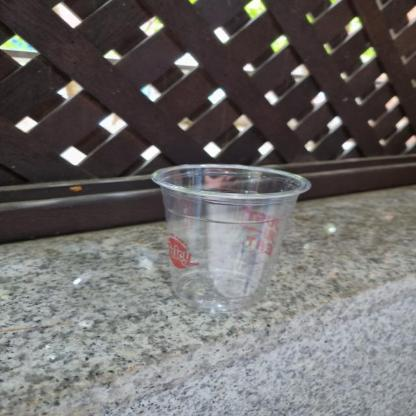Plastic Cup: (145, 156, 314, 312)
